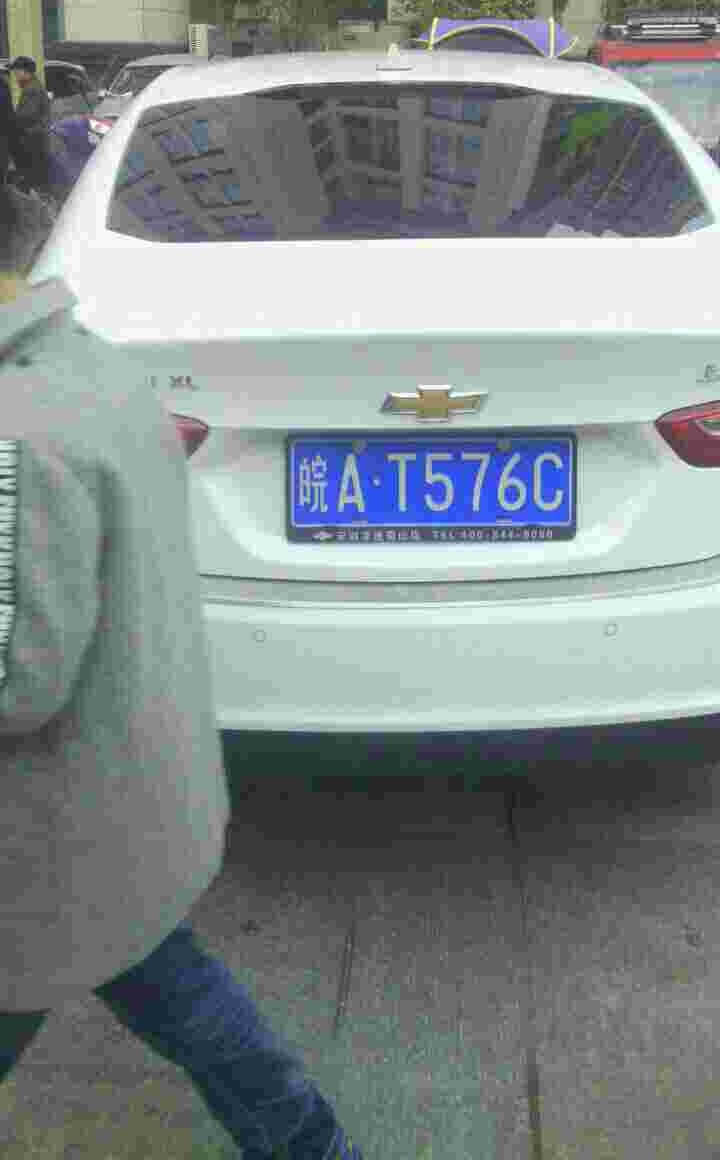license_plate: (289, 448, 576, 537)
